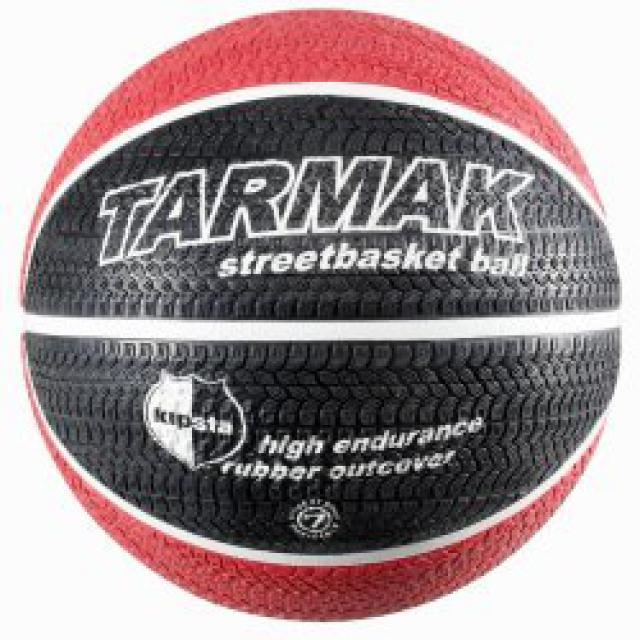basketball: (21, 7, 622, 623)
